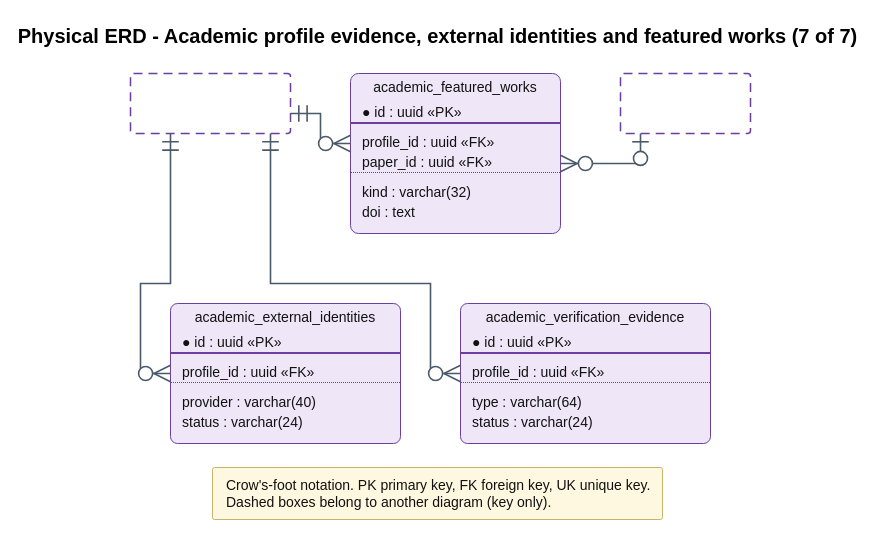
The diagram is 874 pixels wide and 537 high, and some of its shapes have lost their labels. The centre of each missing label's shape, as x and y in pixels:
"academic_profiles ● id : uuid «PK»" belongs at (210,103).
"papers ● id : uuid «PK»" belongs at (685,103).
